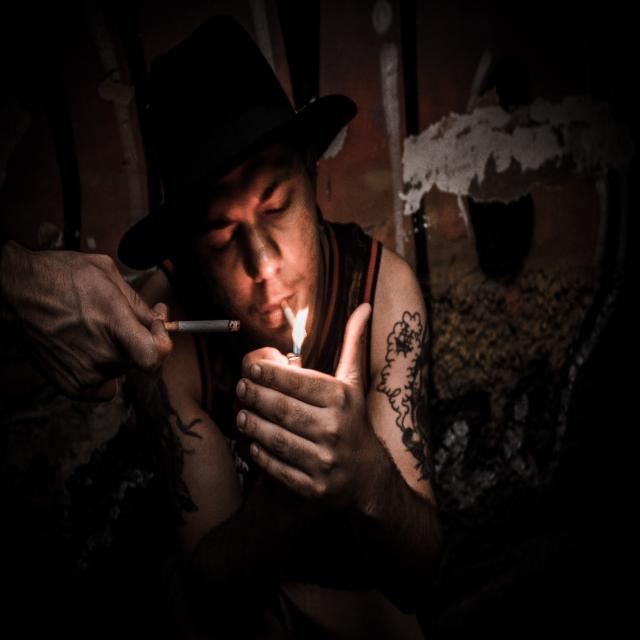fire: (286, 312, 312, 362)
